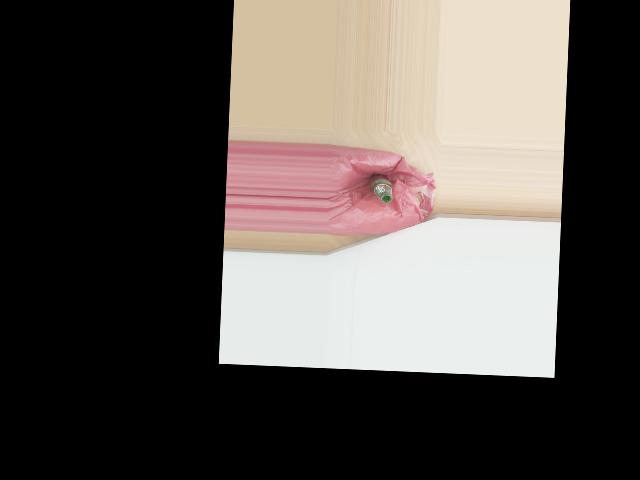beer: (368, 172, 393, 202)
